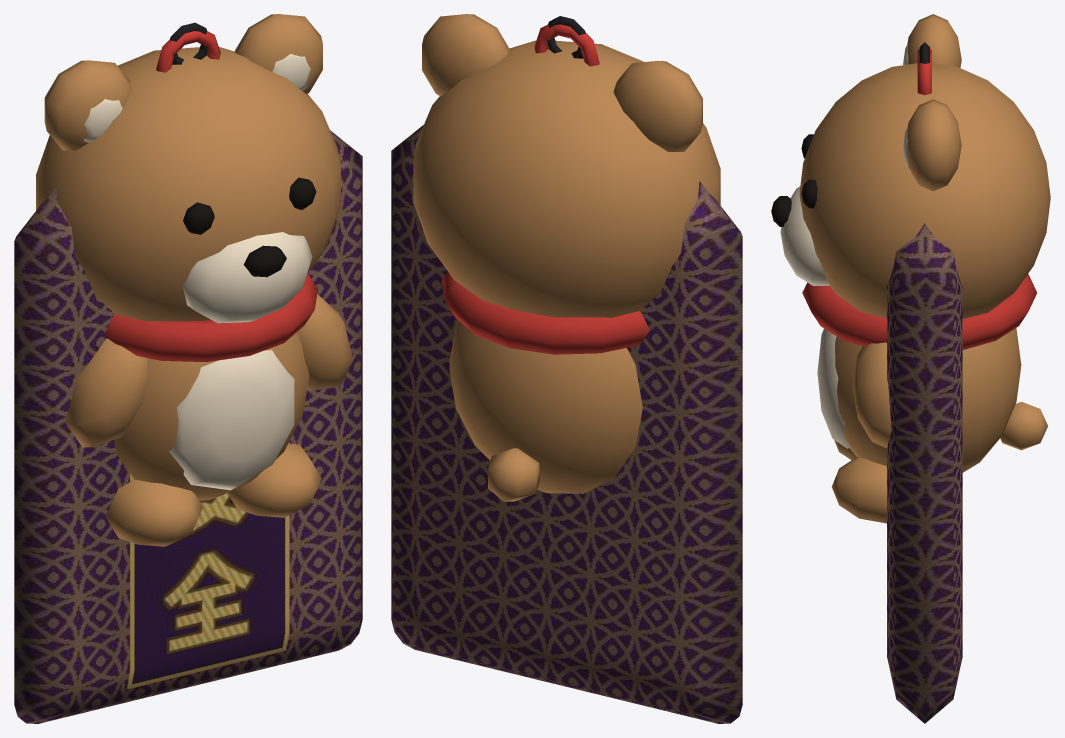
Rendered from mirror_charms.glb.
3 renders of one model, left to right at view 1: azimuth 30°, elevation 25°; view 2: azimuth 150°, elevation 25°; view 3: azimuth 270°, elevation 25°, orthographic. The views are drawn at different scales.
Visible parts, largest first — view 1: Charm_Plush, Charm_Omamori; view 2: Charm_Omamori, Charm_Plush; view 3: Charm_Plush, Charm_Omamori.
Part boxes in pixels (box(x1,y1,x2,y2)): Charm_Plush: box(36, 14, 352, 546); Charm_Omamori: box(14, 31, 362, 723); Charm_Omamori: box(391, 24, 742, 723); Charm_Plush: box(413, 14, 720, 501); Charm_Plush: box(771, 14, 1050, 523); Charm_Omamori: box(887, 49, 962, 723).
Bounding box in the file's own units: 0.044 × 0.0801 × 0.0333.
Materials: 7 (1 with a texture image).
